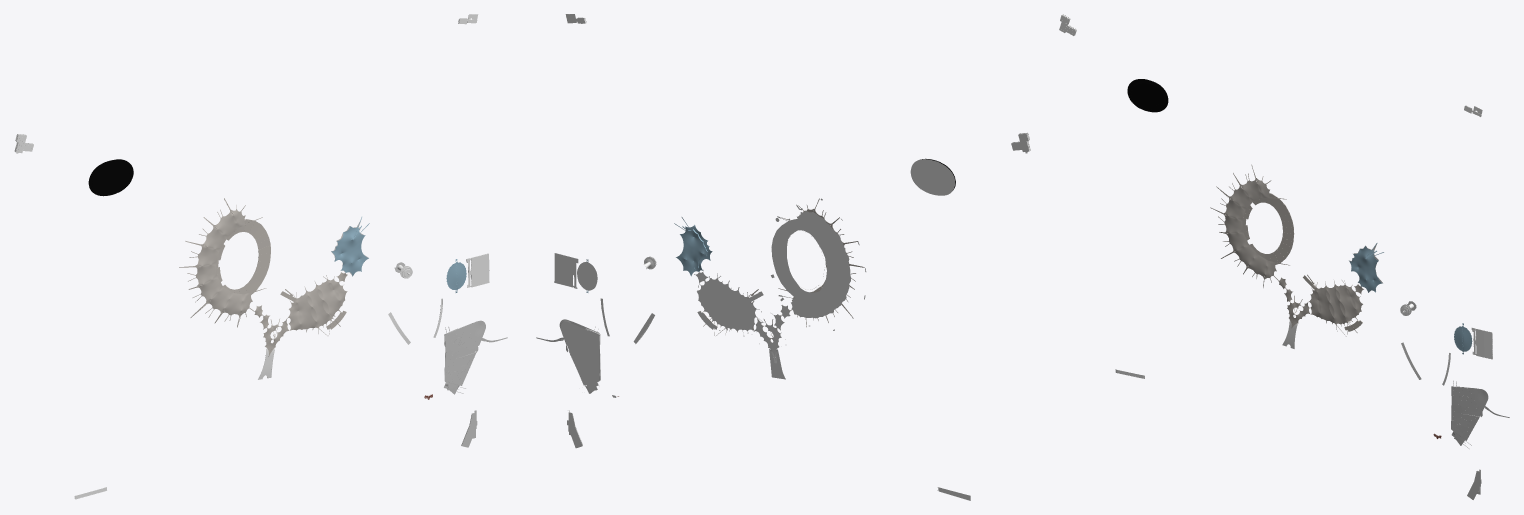
The picture shows the model from 3 angles, left to right: view 1: azimuth 30°, elevation 25°; view 2: azimuth 150°, elevation 25°; view 3: azimuth 330°, elevation 25°; orthographic projection. The views are drawn at different scales.
Size of the model in its own units: 8112 by 6822 by 292.
